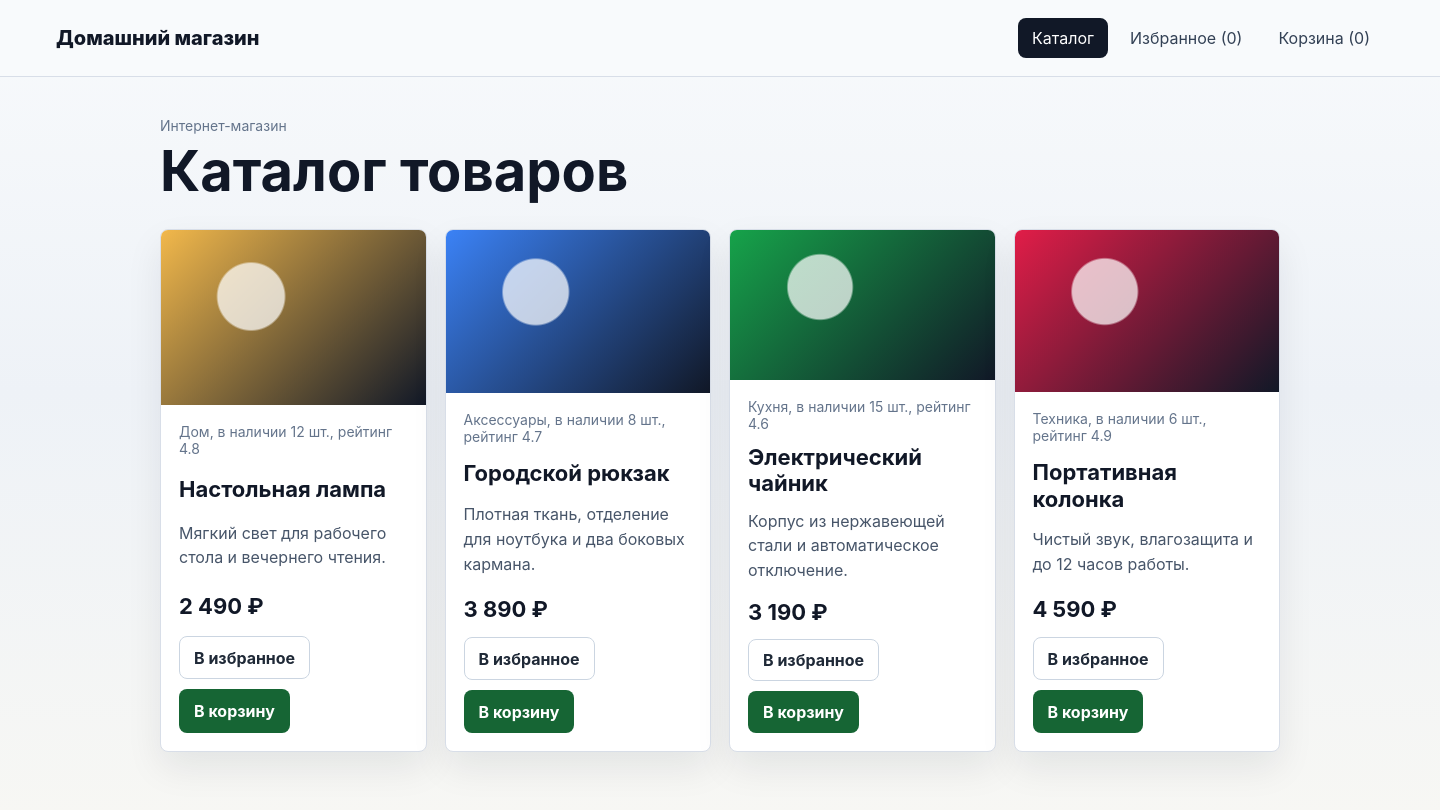
Test: добавляет товар в корзину и показывает его на маршруте корзины
Check: the heading "Портативная колонка" is shown, box [1032,459,1177,512]
Click the button "В корзину" below "2 490 ₽". click: click(234, 711)
box: [179,689,290,733]
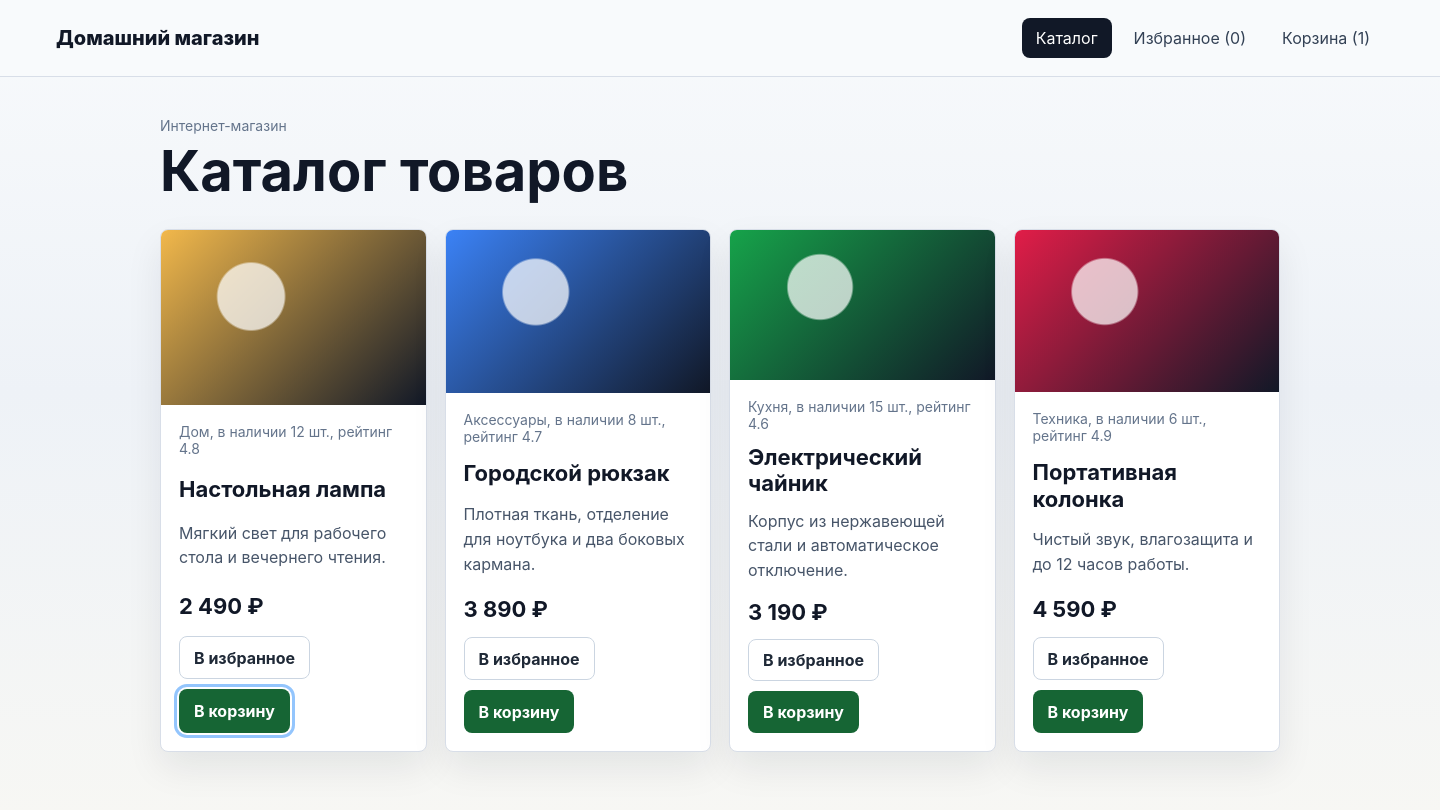
Click the link "Корзина (1)". click: click(1326, 38)
box: [1282,28,1370,48]
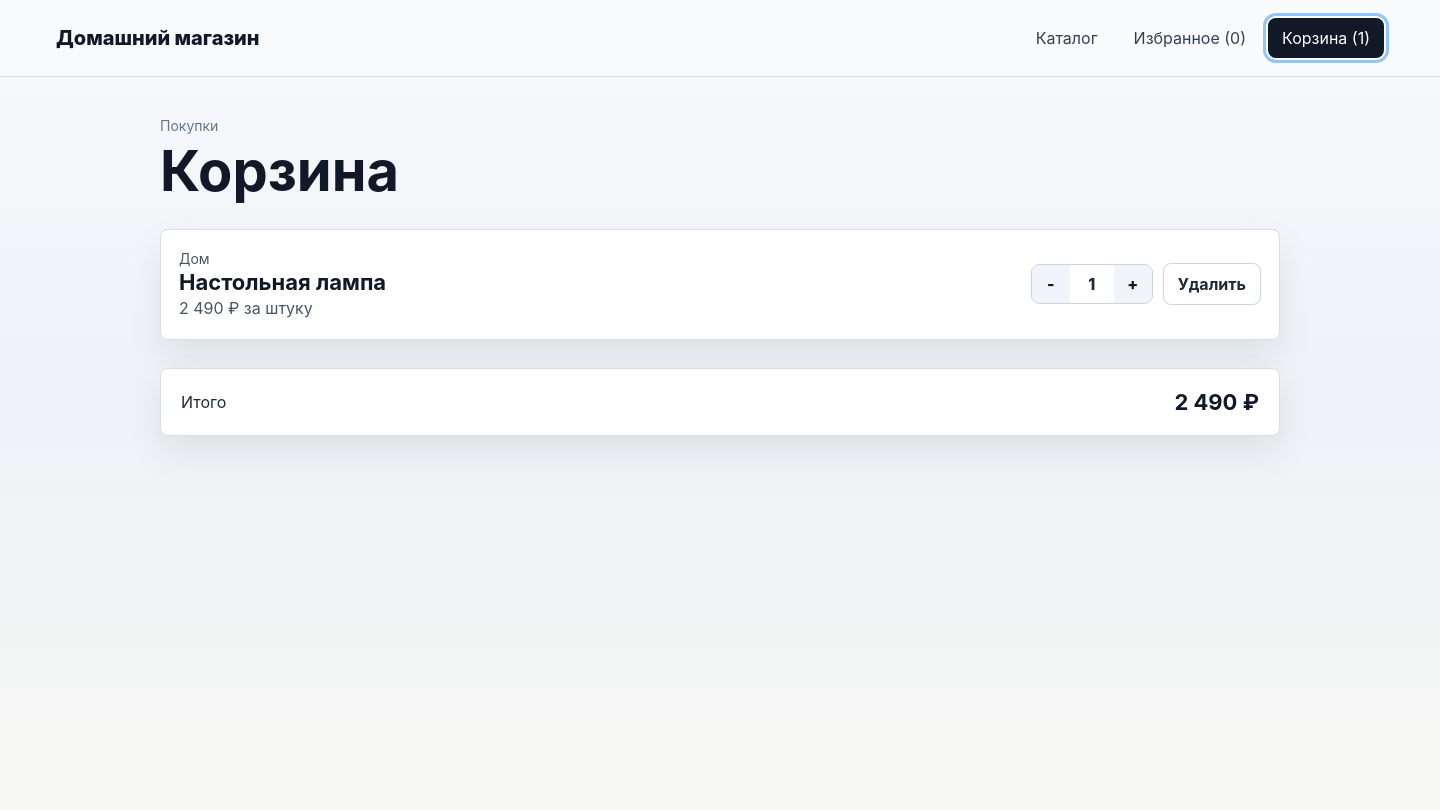
Check: the heading "Настольная лампа" is shown, box [179,270,386,296]
Check: the heading "Корзина" is shown, box [160,137,399,205]
